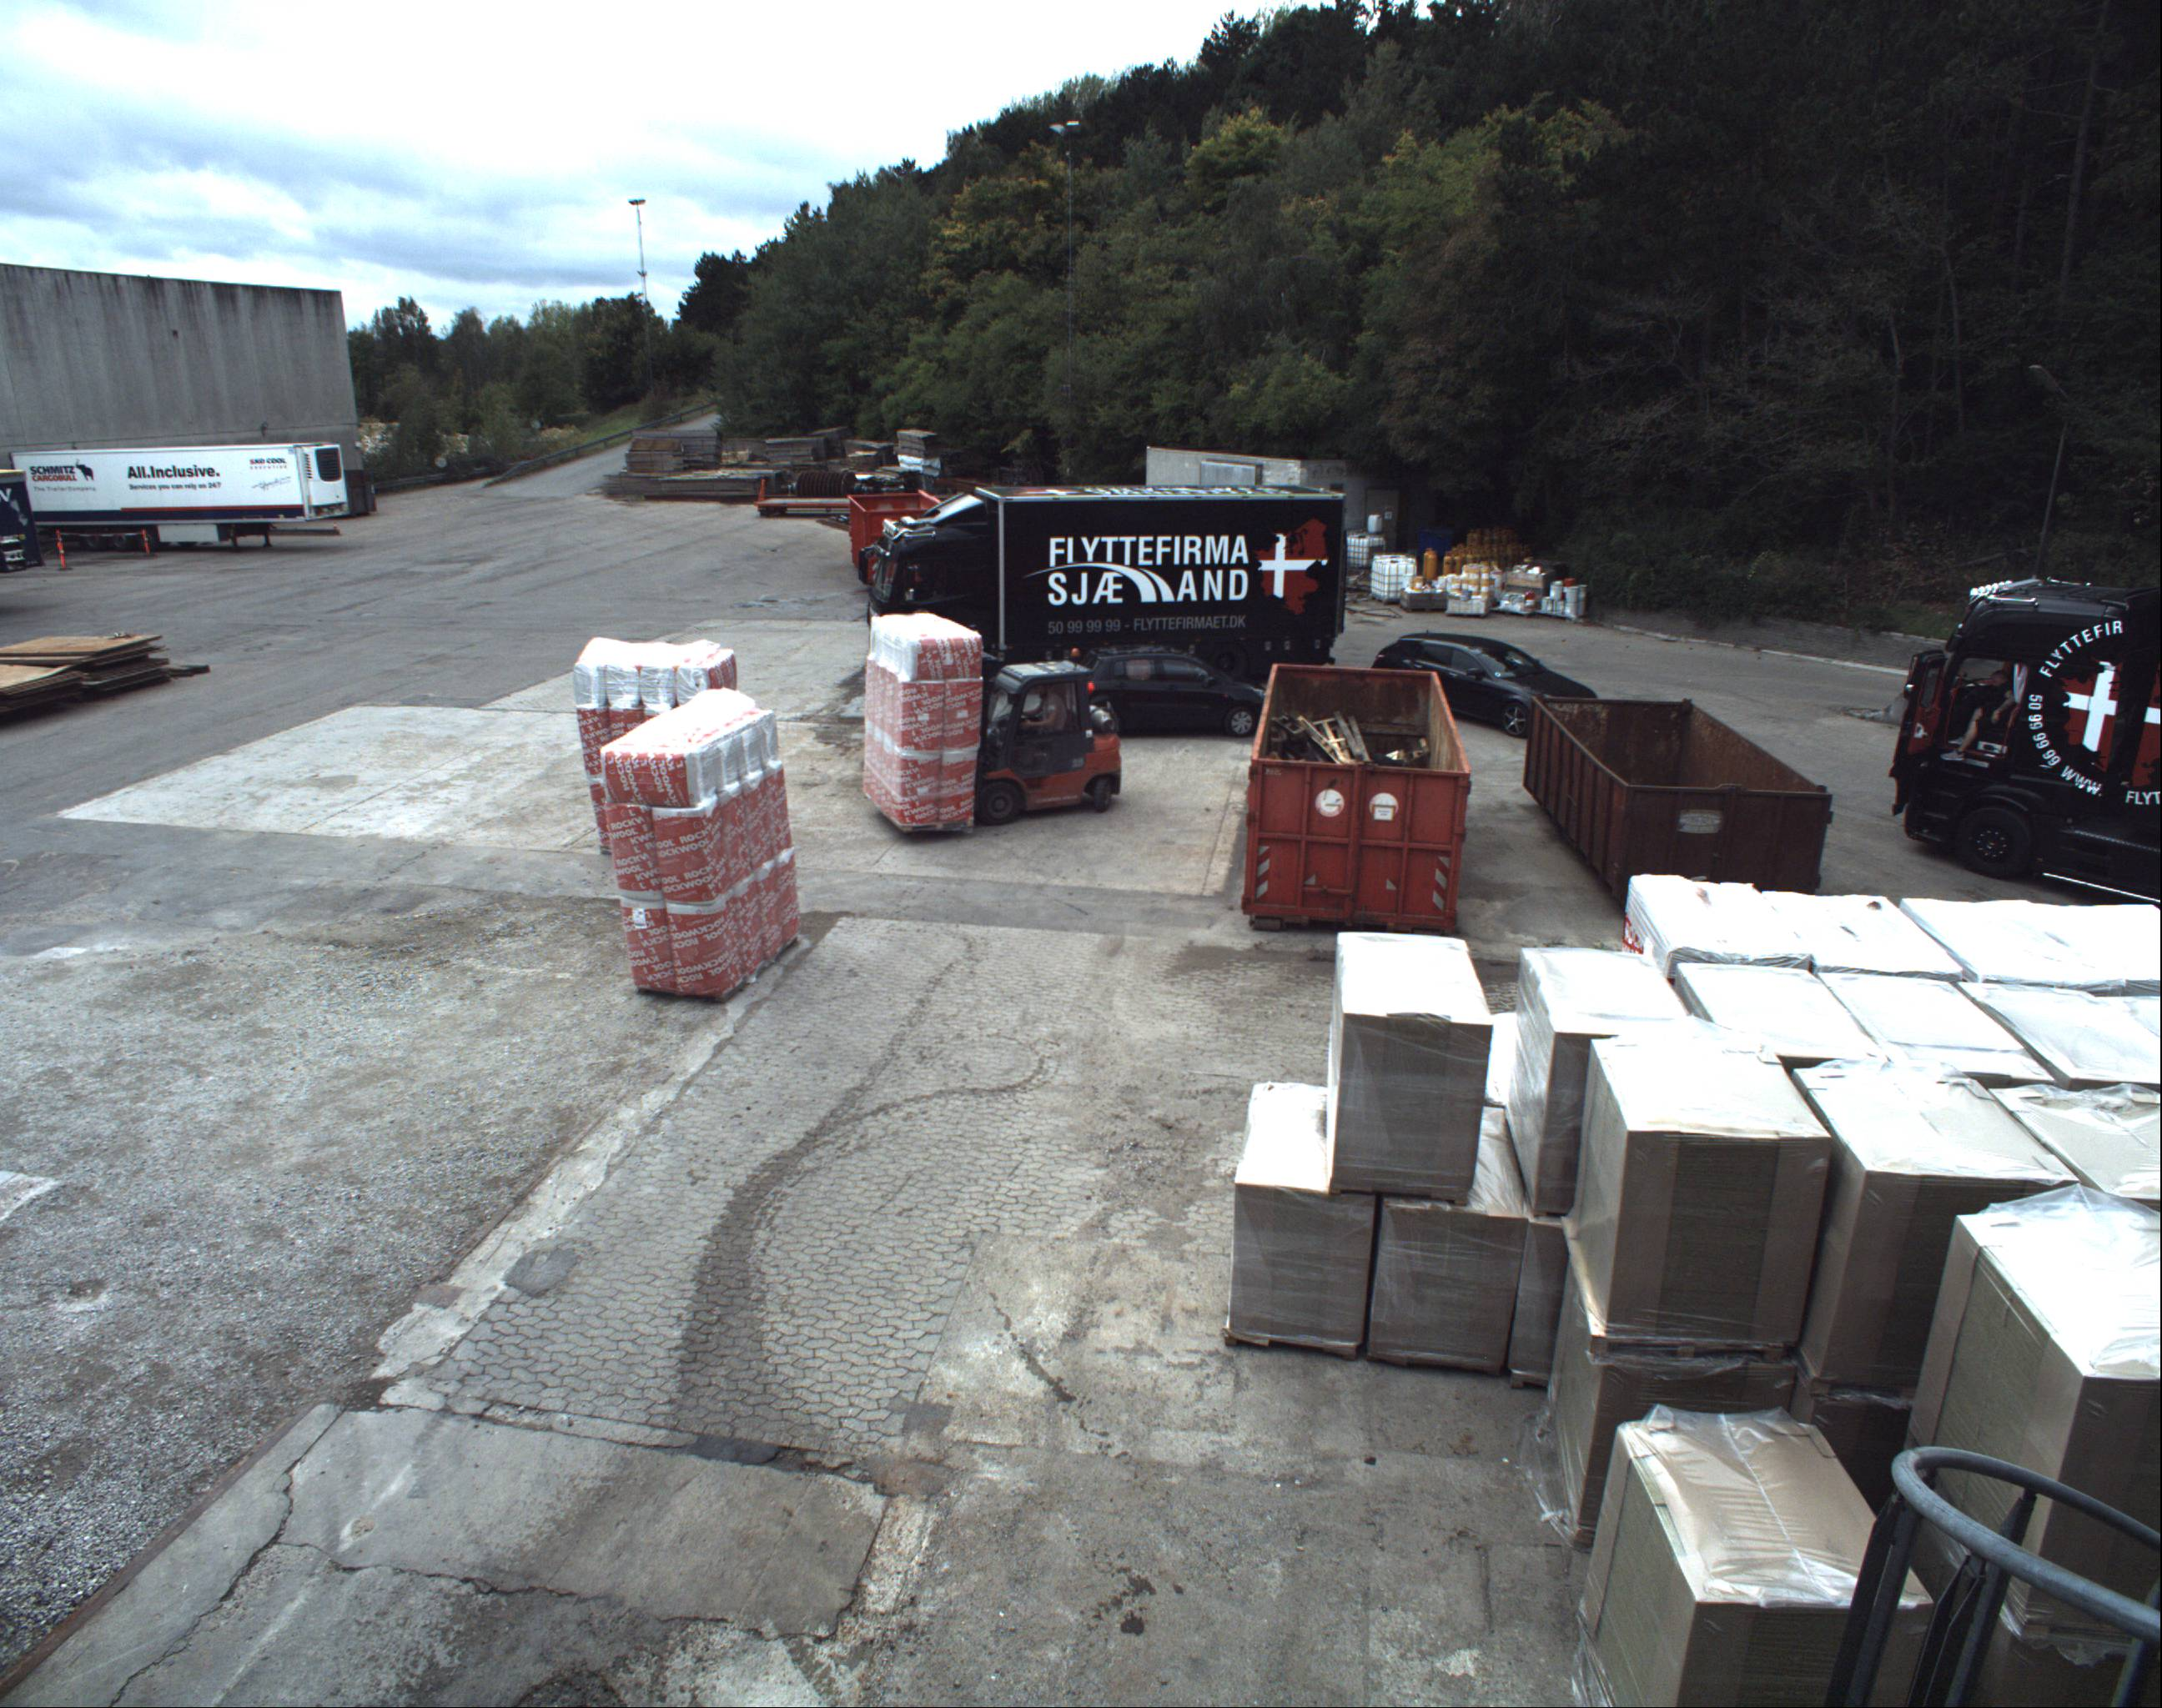rockwool_batts: (600, 695, 795, 981), (858, 614, 979, 832), (567, 635, 732, 748)
